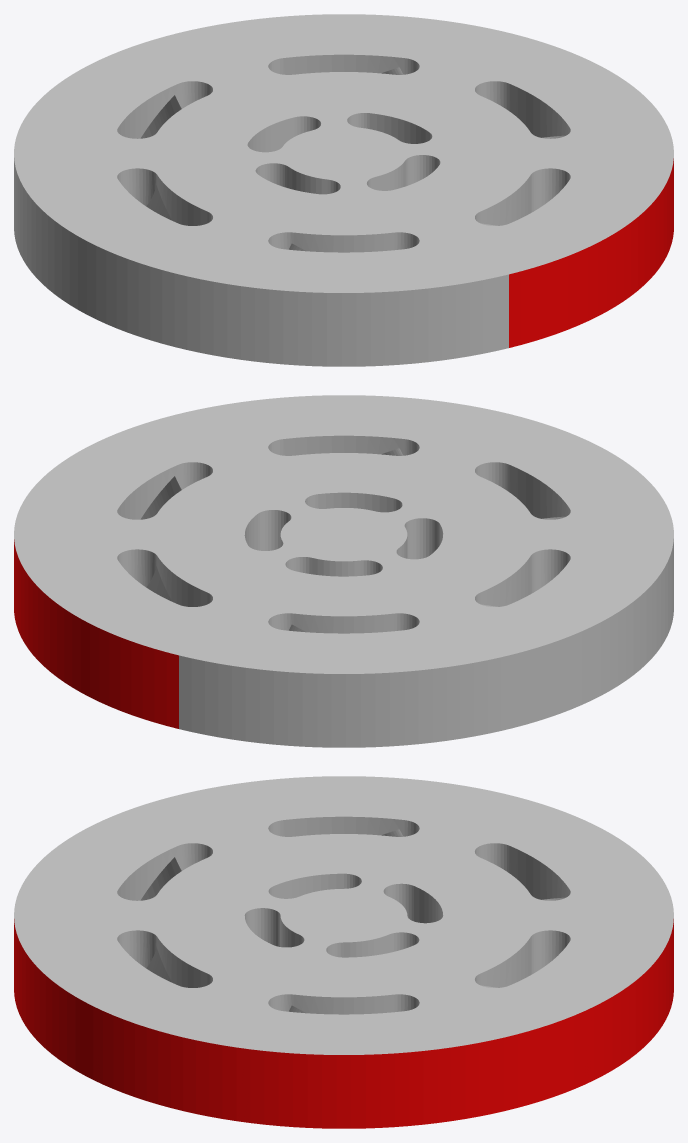
File: flange_v2_STEP_14.obj
3 renders of one model, top to bottom at view 1: azimuth 30°, elevation 25°; view 2: azimuth 150°, elevation 25°; view 3: azimuth 270°, elevation 25°, orthographic.
Visible parts, largest first — view 1: Object1; view 2: Object1; view 3: Object1.
Part boxes in pixels (box(x1,y1,x2,y2)): Object1: box(14, 14, 673, 366); Object1: box(14, 395, 673, 747); Object1: box(14, 776, 673, 1128).
Bounding box in the file's own units: 406 × 50 × 406.
